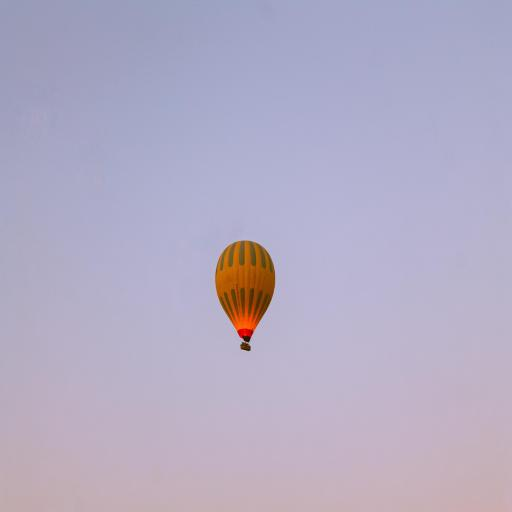hot air ballon: (215, 239, 276, 351)
